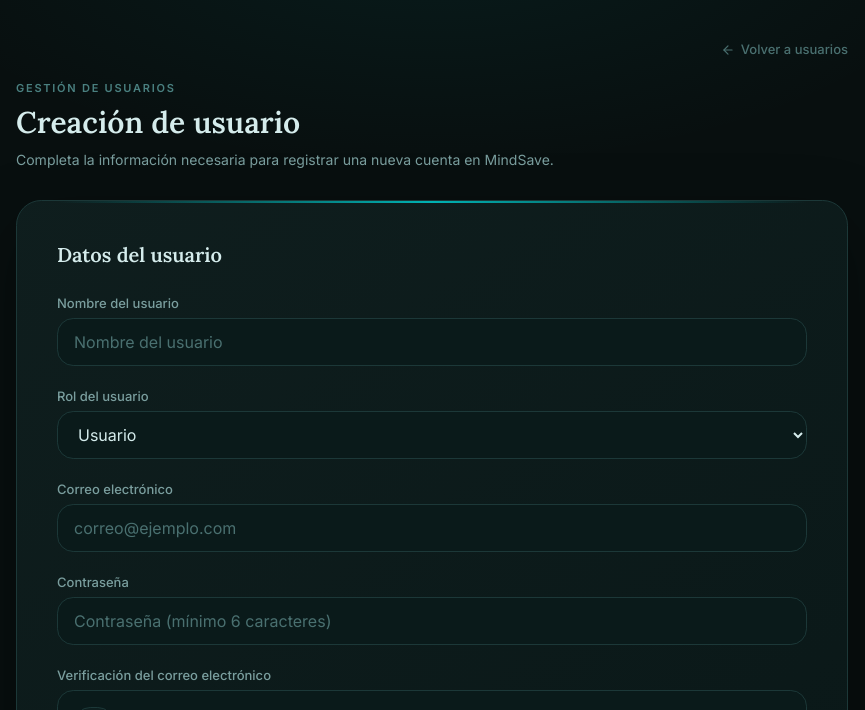
Test: Formularios de usuario › Creación › CP-ADW-41 Validar 'Nombre del usuario' con el valor 'A'
Type "  Nuevo Paciente  " into the field labelled "Nombre del usuario" at (432, 342), box x1=57 y1=318 x2=807 y2=366
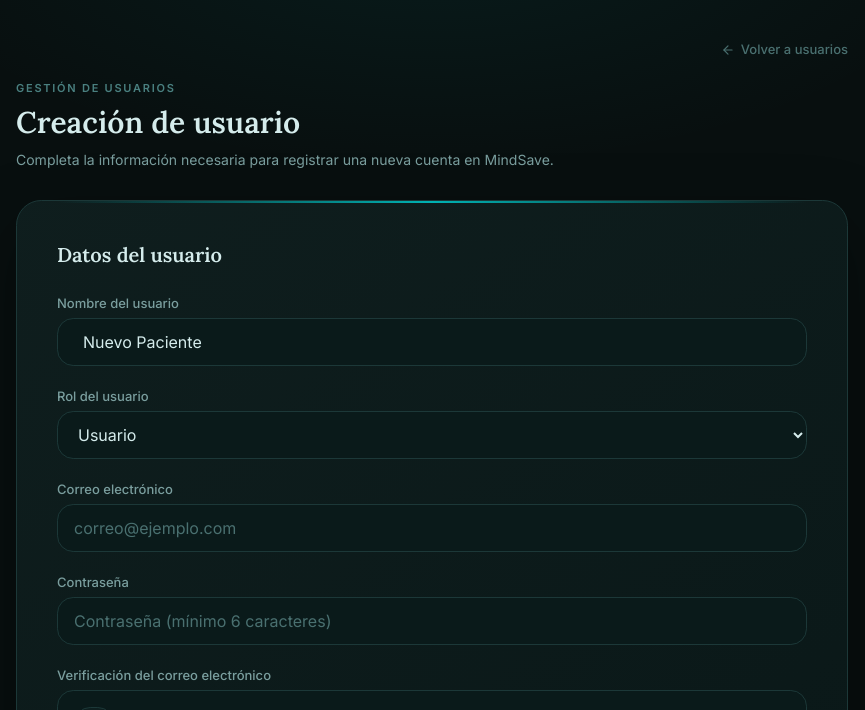
Type "nuevo@mindsave.test" into the field labelled "Correo electrónico" at (432, 528), box x1=57 y1=504 x2=807 y2=552
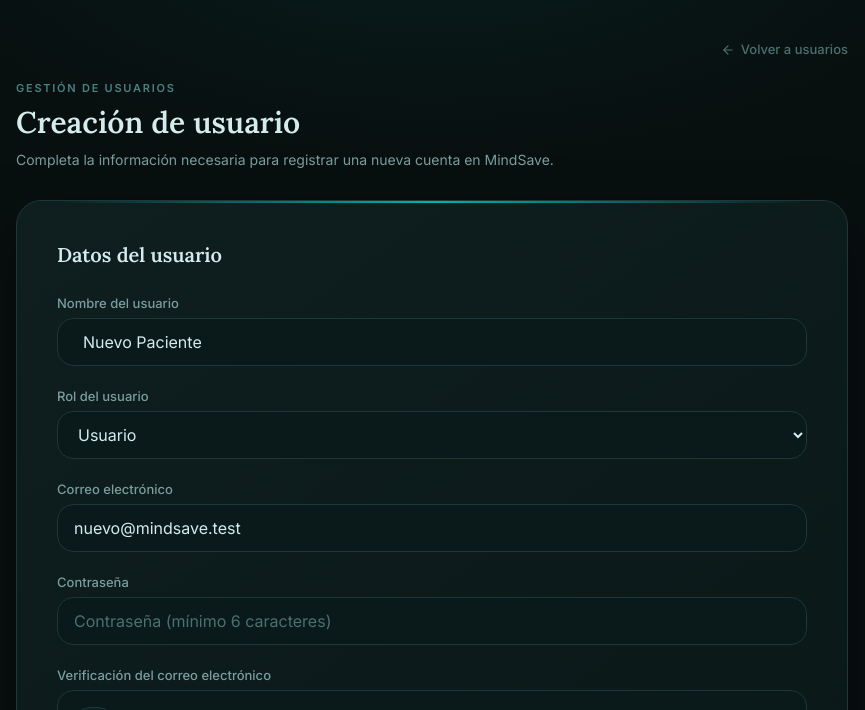
Type "Prueba123" into the password field labelled "Contraseña" at (432, 621), box x1=57 y1=597 x2=807 y2=645
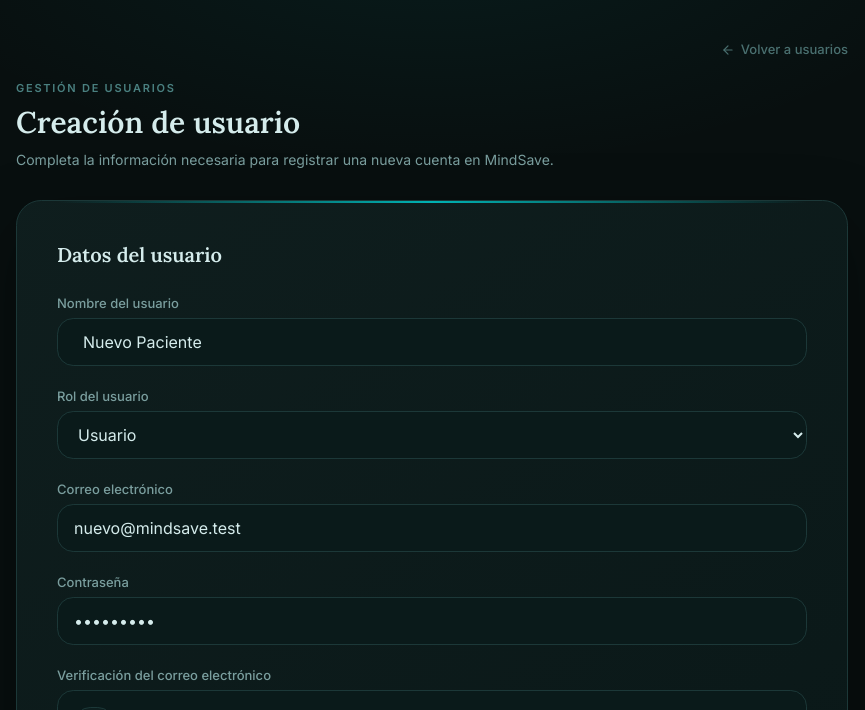
Replace the text in the field labelled "Nombre del usuario" with "A" at (432, 342), box x1=57 y1=318 x2=807 y2=366
(page scrolled)
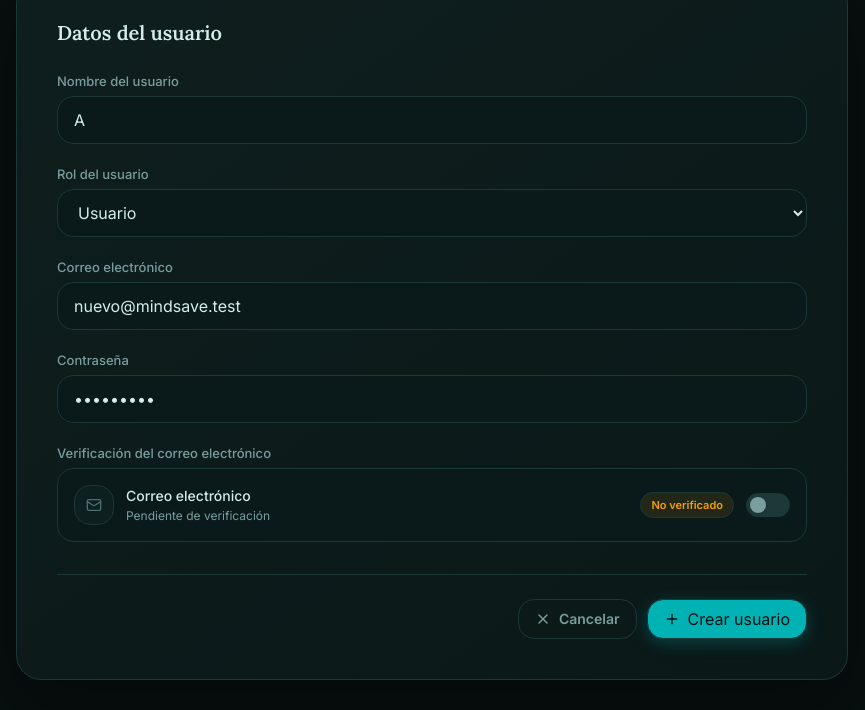
Click the button "Crear usuario" at (727, 619), box x1=647 y1=599 x2=807 y2=639
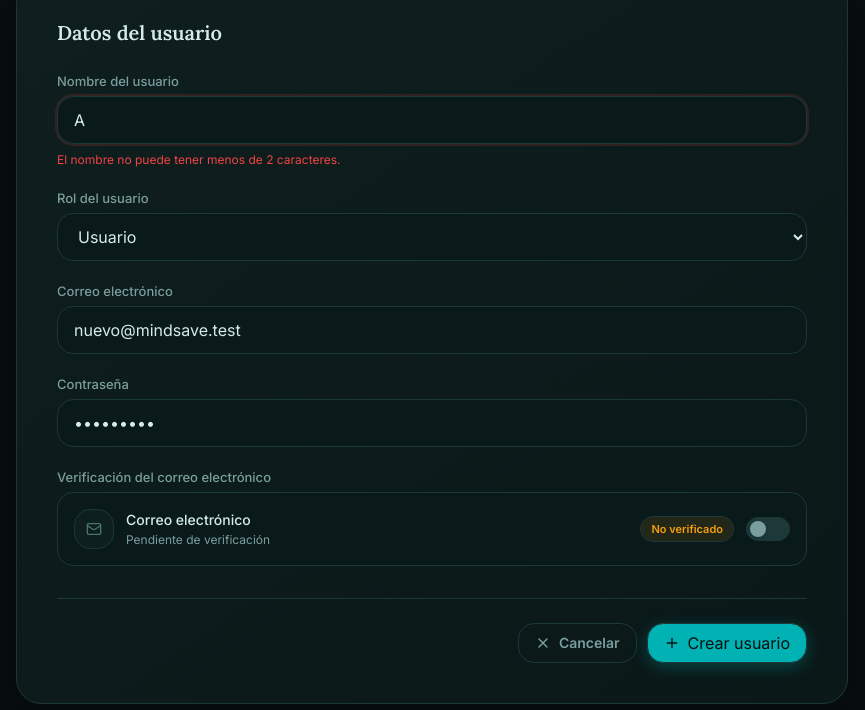
Result: the text "El nombre no puede tener menos de 2 caracteres." is shown at x1=57 y1=152 x2=341 y2=167
